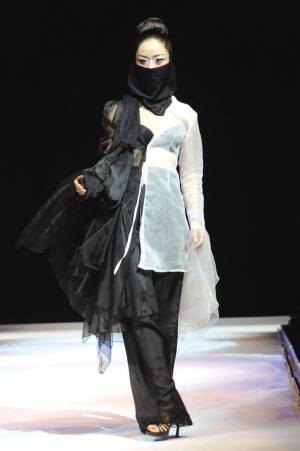face_mask: (135, 38, 169, 90)
